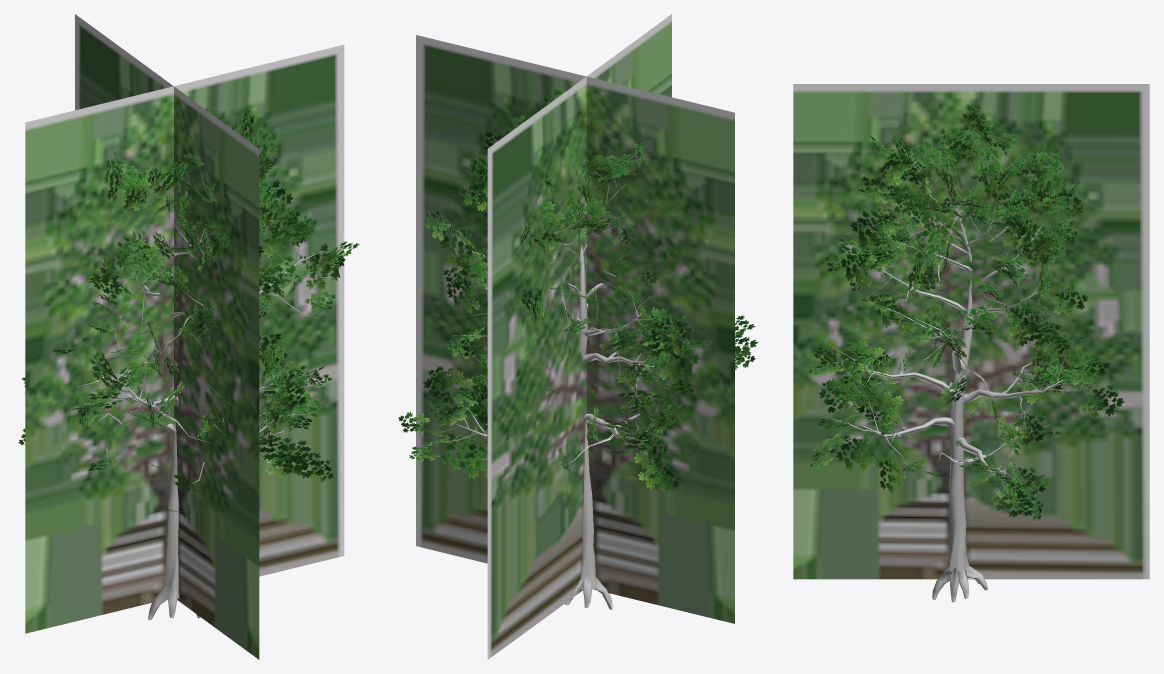
Rendered from Tree-Maple2A.fbx.
3 renders of one model, left to right at view 1: azimuth 30°, elevation 25°; view 2: azimuth 150°, elevation 25°; view 3: azimuth 270°, elevation 25°, orthographic. The views are drawn at different scales.
Parts seen in each view (by area): view 1: Billboard-MapleA, Tree-Maple2A_LOD0; view 2: Billboard-MapleA, Tree-Maple2A_LOD0; view 3: Billboard-MapleA, Tree-Maple2A_LOD0.
Part boxes in pixels (left/top/right/bottom): Billboard-MapleA: left=25, top=14, right=344, bottom=659; Tree-Maple2A_LOD0: left=18, top=108, right=359, bottom=620; Billboard-MapleA: left=416, top=14, right=734, bottom=659; Tree-Maple2A_LOD0: left=398, top=88, right=758, bottom=609; Billboard-MapleA: left=793, top=84, right=1149, bottom=579; Tree-Maple2A_LOD0: left=806, top=103, right=1123, bottom=602.
Size of what is drawn, in the model's own units: 1804 by 2851 by 1804.
